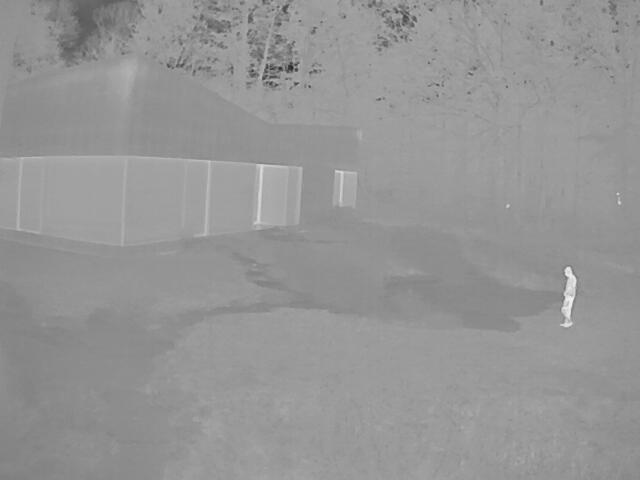person: (559, 265, 577, 328)
